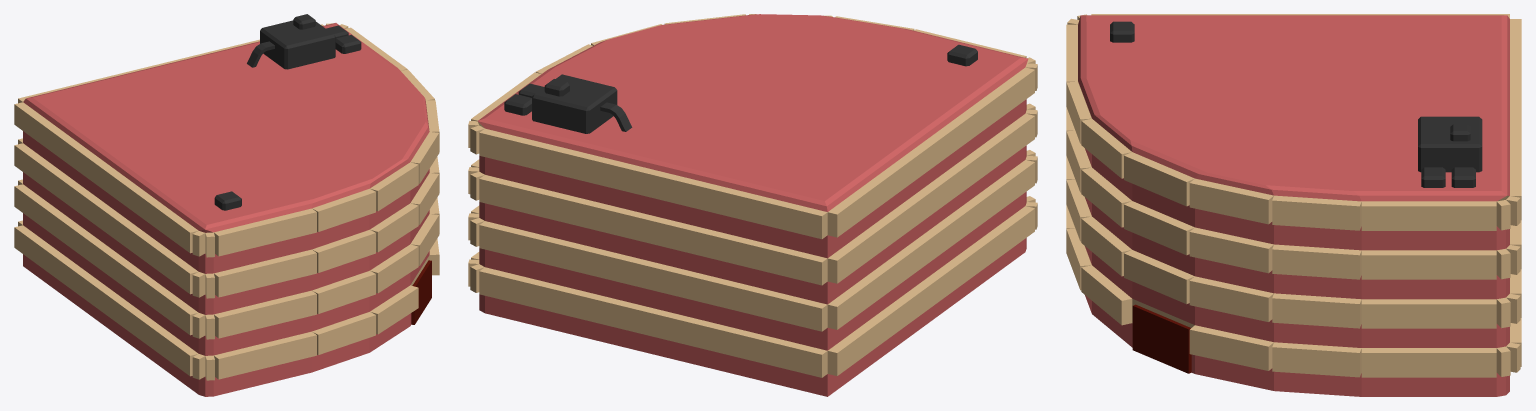
File: Predio_pizza.fbx
The picture shows the model from 3 angles, left to right: view 1: azimuth 30°, elevation 25°; view 2: azimuth 150°, elevation 25°; view 3: azimuth 270°, elevation 25°; orthographic projection. The views are drawn at different scales.
Parts seen in each view (by area): view 1: Predio_Pizza; view 2: Predio_Pizza; view 3: Predio_Pizza.
Boxes of the visible parts, box(x1,y1,x2,y2) form: Predio_Pizza: box(14, 14, 439, 396); Predio_Pizza: box(468, 14, 1037, 396); Predio_Pizza: box(1066, 14, 1521, 396).
Bounding box in the file's own units: 3289 × 1901 × 3289.
